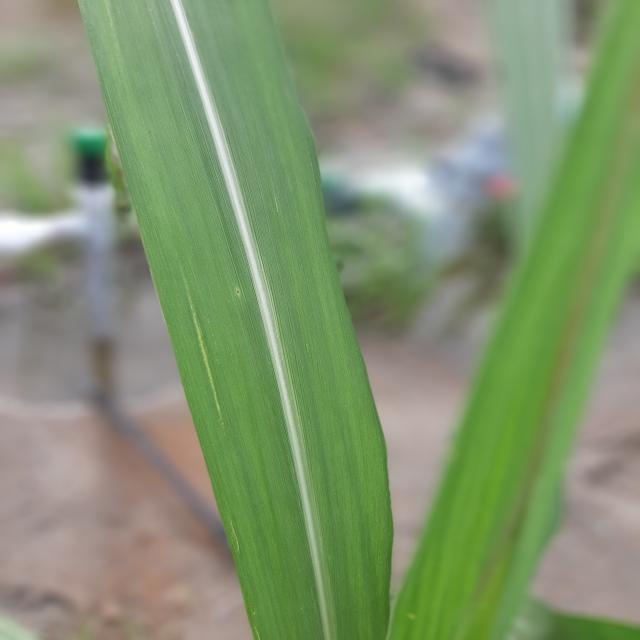Sugarcane: (76, 1, 396, 638)
